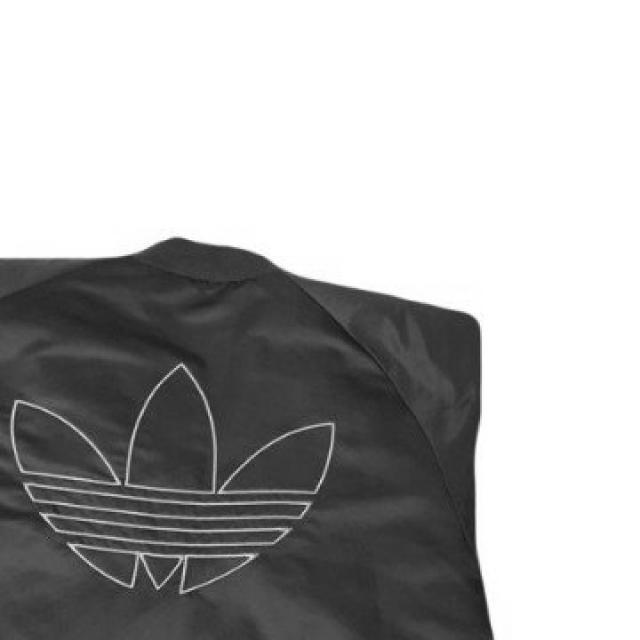Adidas: (0, 348, 349, 612)
